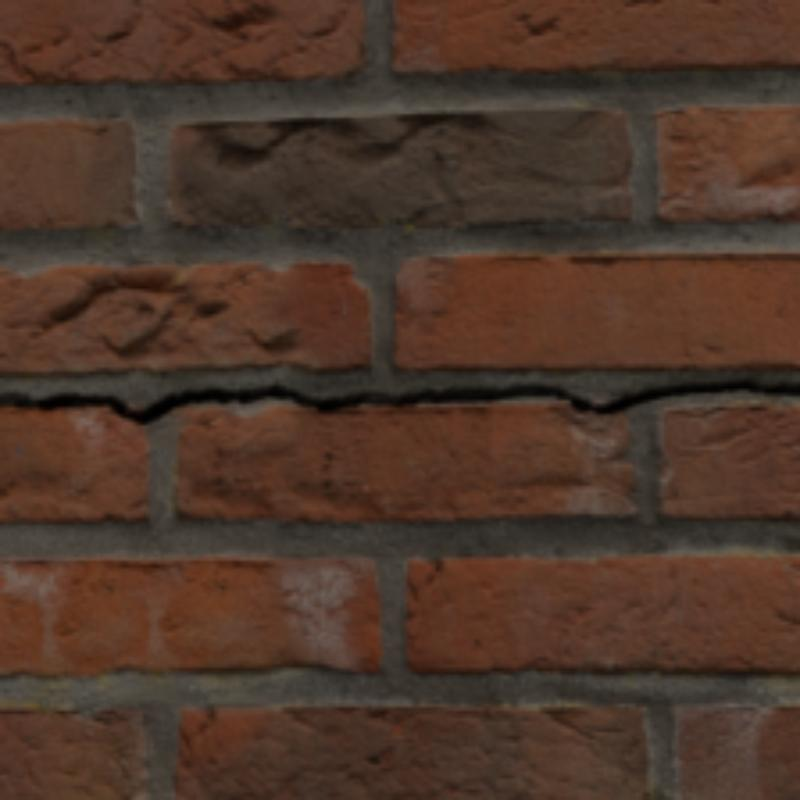crack: (0, 379, 796, 421)
